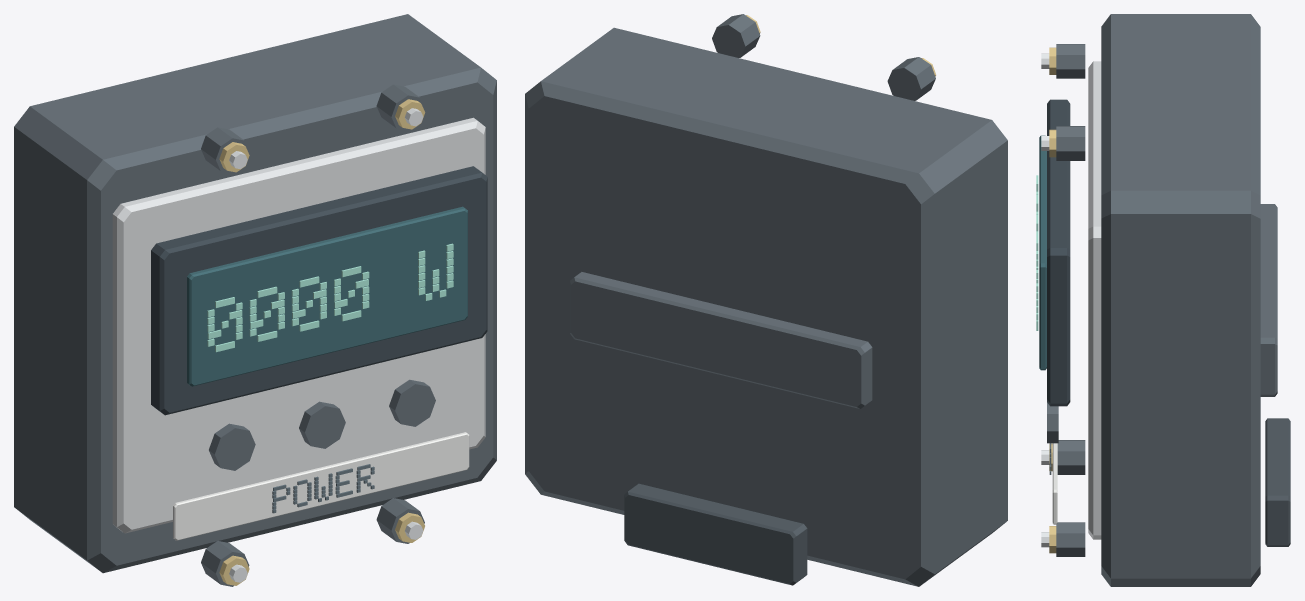
Rendered from wattmeter.glb.
3 views of the same model, side by side, from view 1: azimuth 30°, elevation 25°; view 2: azimuth 150°, elevation 25°; view 3: azimuth 270°, elevation 25° (orthographic). The views are drawn at different scales.
Visible parts, largest first — view 1: wattmeter-board; view 2: wattmeter-board; view 3: wattmeter-board.
Part boxes in pixels (box(x1,y1,x2,y2)): wattmeter-board: box(14, 14, 496, 586); wattmeter-board: box(525, 14, 1007, 586); wattmeter-board: box(1036, 14, 1290, 586).
Size of the model in its own units: 2.33 by 2.44 by 1.31.
